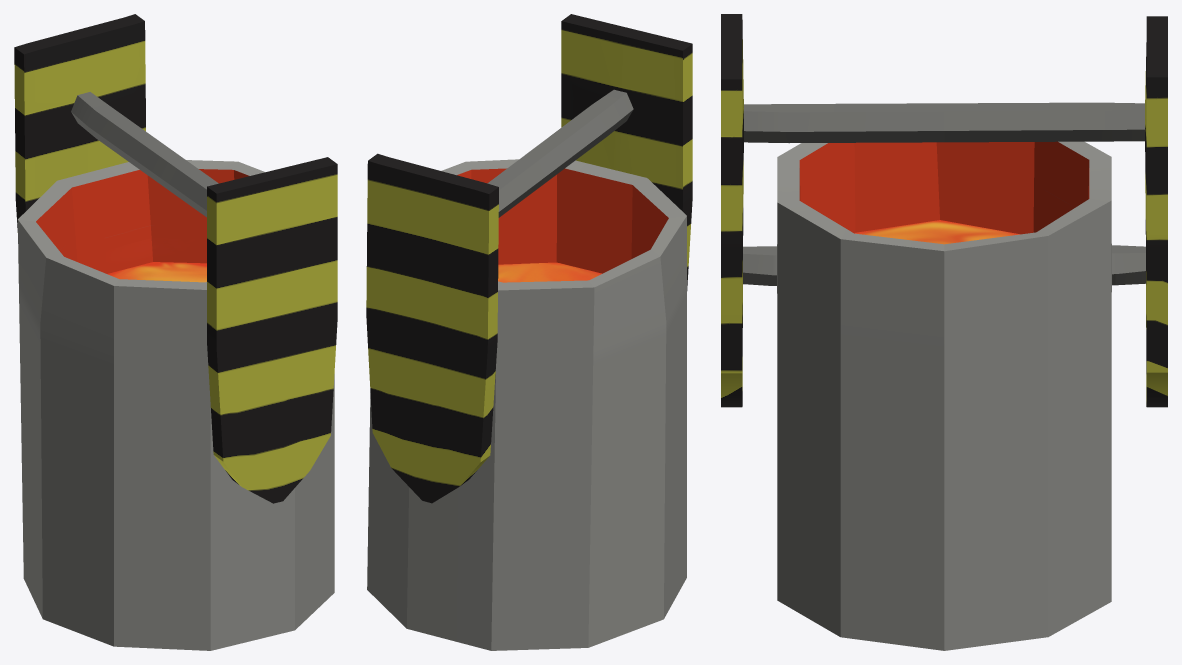
The model's file is Casting Bucket.fbx.
3 renders of one model, left to right at view 1: azimuth 30°, elevation 25°; view 2: azimuth 150°, elevation 25°; view 3: azimuth 270°, elevation 25°, orthographic. The views are drawn at different scales.
Visible parts, largest first — view 1: CaseingBucket; view 2: CaseingBucket; view 3: CaseingBucket.
Part boxes in pixels (left/top/right/bottom): CaseingBucket: left=14, top=14, right=337, bottom=650; CaseingBucket: left=366, top=14, right=692, bottom=650; CaseingBucket: left=721, top=14, right=1167, bottom=650.
Bounding box in the file's own units: 0.2697 × 0.454 × 0.3438.
1 material, 1 textured.
